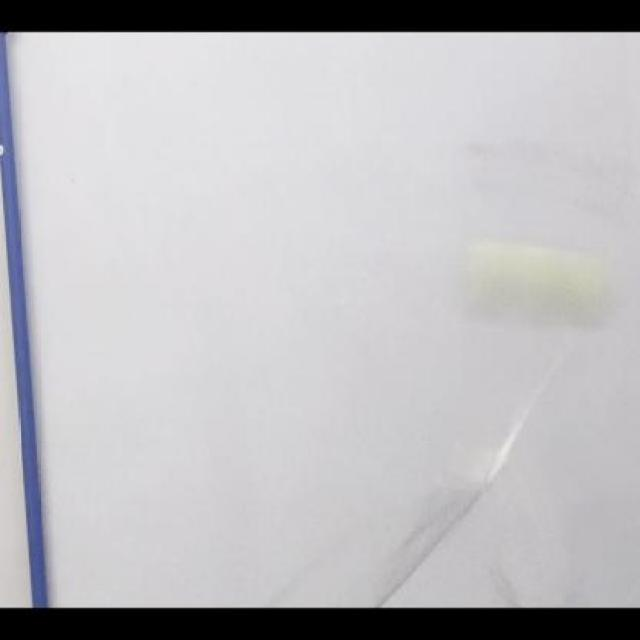baseball: (443, 241, 620, 330)
